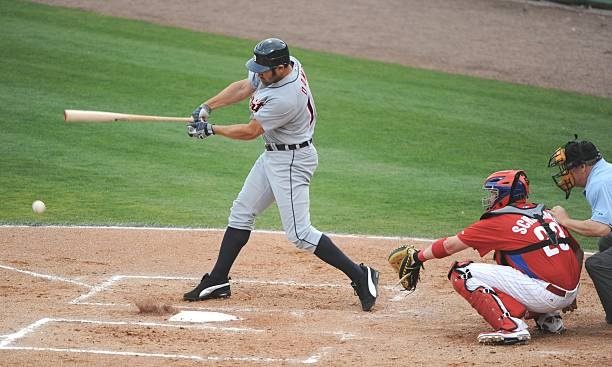bita: (64, 108, 198, 128)
